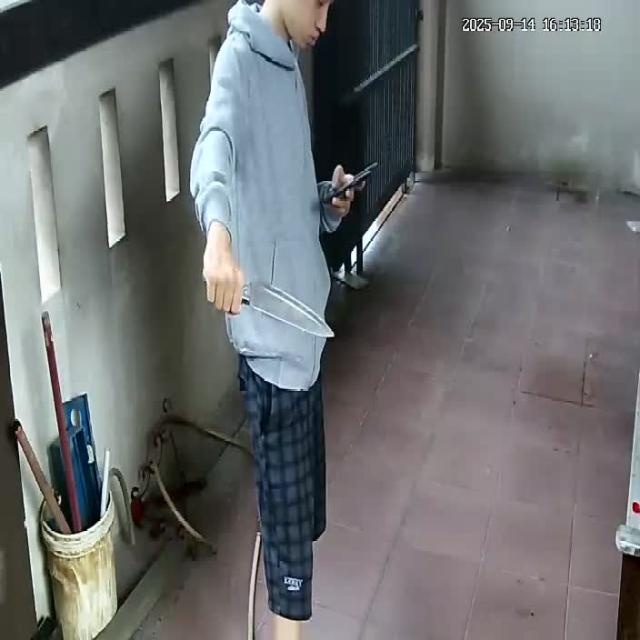senjata_tajam: (242, 277, 338, 338)
